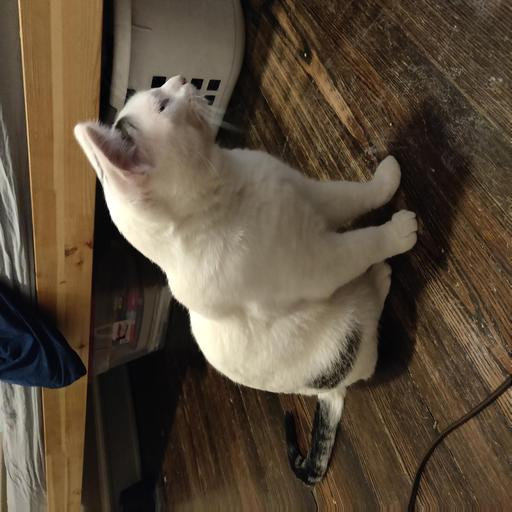cat: (63, 59, 388, 384)
